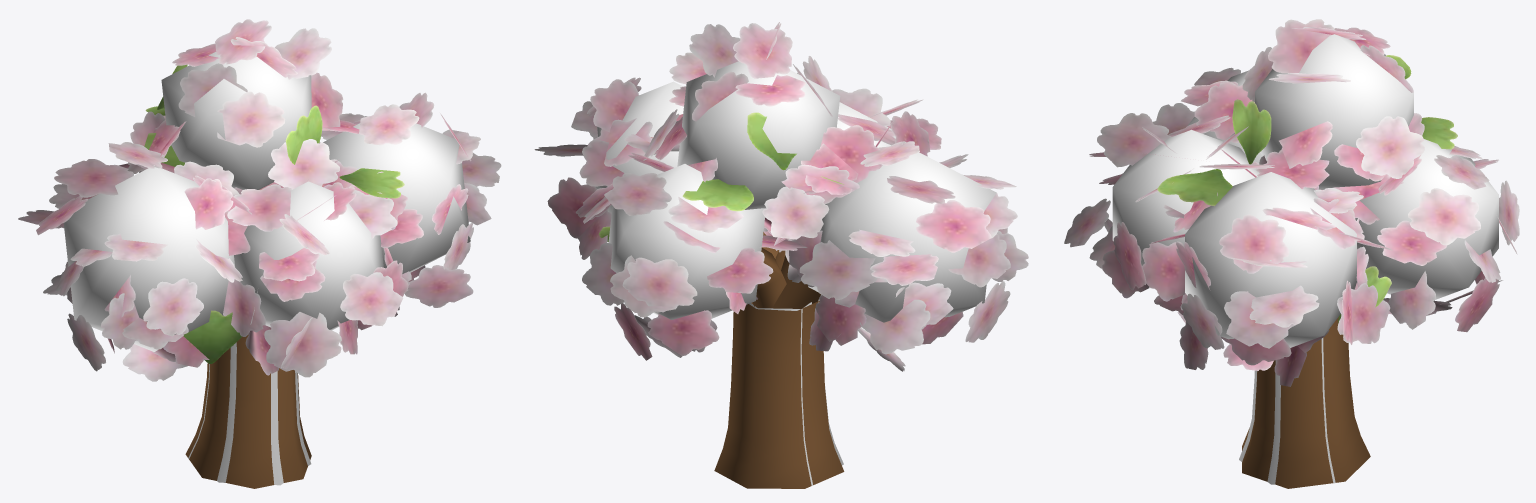
File: tree-wide-blossom.lod1.glb
The picture shows the model from 3 angles, left to right: view 1: azimuth 30°, elevation 25°; view 2: azimuth 150°, elevation 25°; view 3: azimuth 270°, elevation 25°; orthographic projection. The views are drawn at different scales.
Visible parts, largest first — view 1: Crown, Hull, Trunk, Stem; view 2: Crown, Hull, Trunk, Stem; view 3: Crown, Hull, Trunk, Stem.
Boxes of the visible parts, <box> form: Crown: <box>18,19,501,381</box>; Hull: <box>63,52,470,351</box>; Trunk: <box>185,334,311,488</box>; Stem: <box>188,342,311,485</box>; Crown: <box>534,22,1028,371</box>; Hull: <box>593,61,996,322</box>; Trunk: <box>714,232,844,488</box>; Stem: <box>749,294,843,485</box>; Crown: <box>1064,19,1519,386</box>; Hull: <box>1112,34,1498,347</box>; Trunk: <box>1242,317,1370,488</box>; Stem: <box>1239,338,1335,484</box>.
Size of the model in its own units: 3.67 by 3.28 by 3.05.
4 materials, 1 textured.
